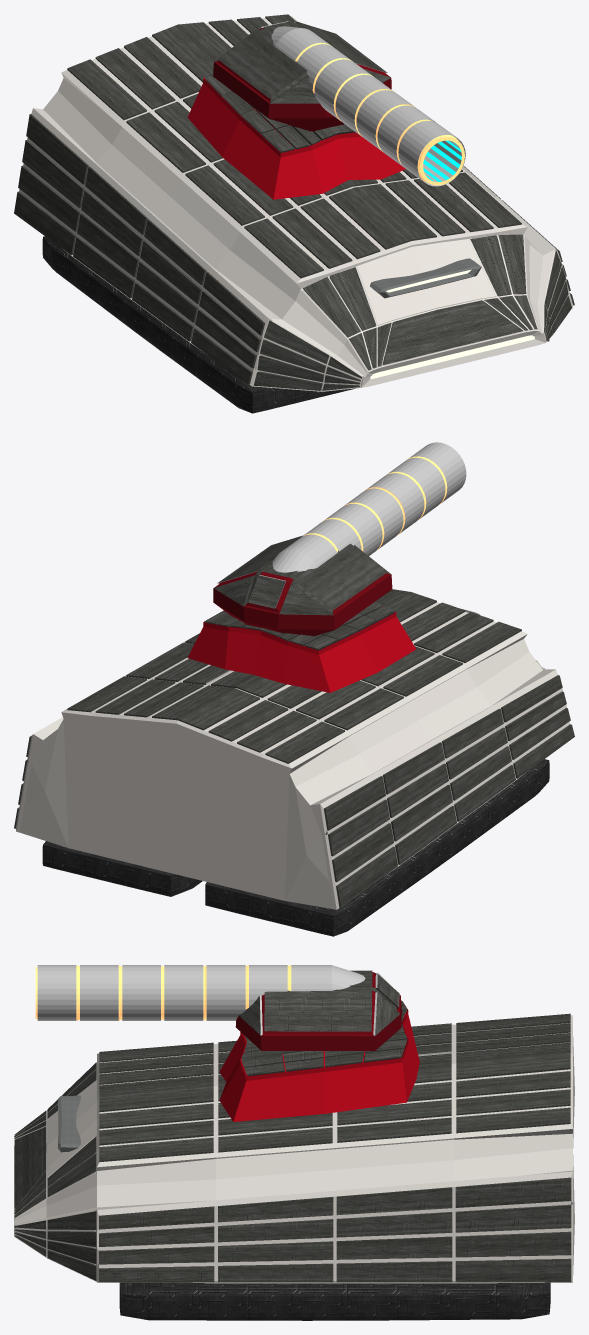
Rendered from Hovertank 2.0.fbx.
3 renders of one model, top to bottom at view 1: azimuth 30°, elevation 25°; view 2: azimuth 150°, elevation 25°; view 3: azimuth 270°, elevation 25°, orthographic.
Parts seen in each view (by area): view 1: Body, Turret, Hover; view 2: Body, Turret, Hover; view 3: Body, Turret, Hover.
Boxes of the visible parts, bbox=[...] form: Body: bbox=[14, 14, 574, 391]; Turret: bbox=[213, 21, 465, 186]; Hover: bbox=[42, 236, 549, 413]; Body: bbox=[14, 589, 574, 909]; Turret: bbox=[213, 442, 466, 636]; Hover: bbox=[42, 759, 549, 936]; Body: bbox=[14, 1000, 574, 1283]; Turret: bbox=[35, 965, 401, 1050]; Hover: bbox=[119, 1282, 550, 1320].
Size of the model in its own units: 510 by 416 by 751.
